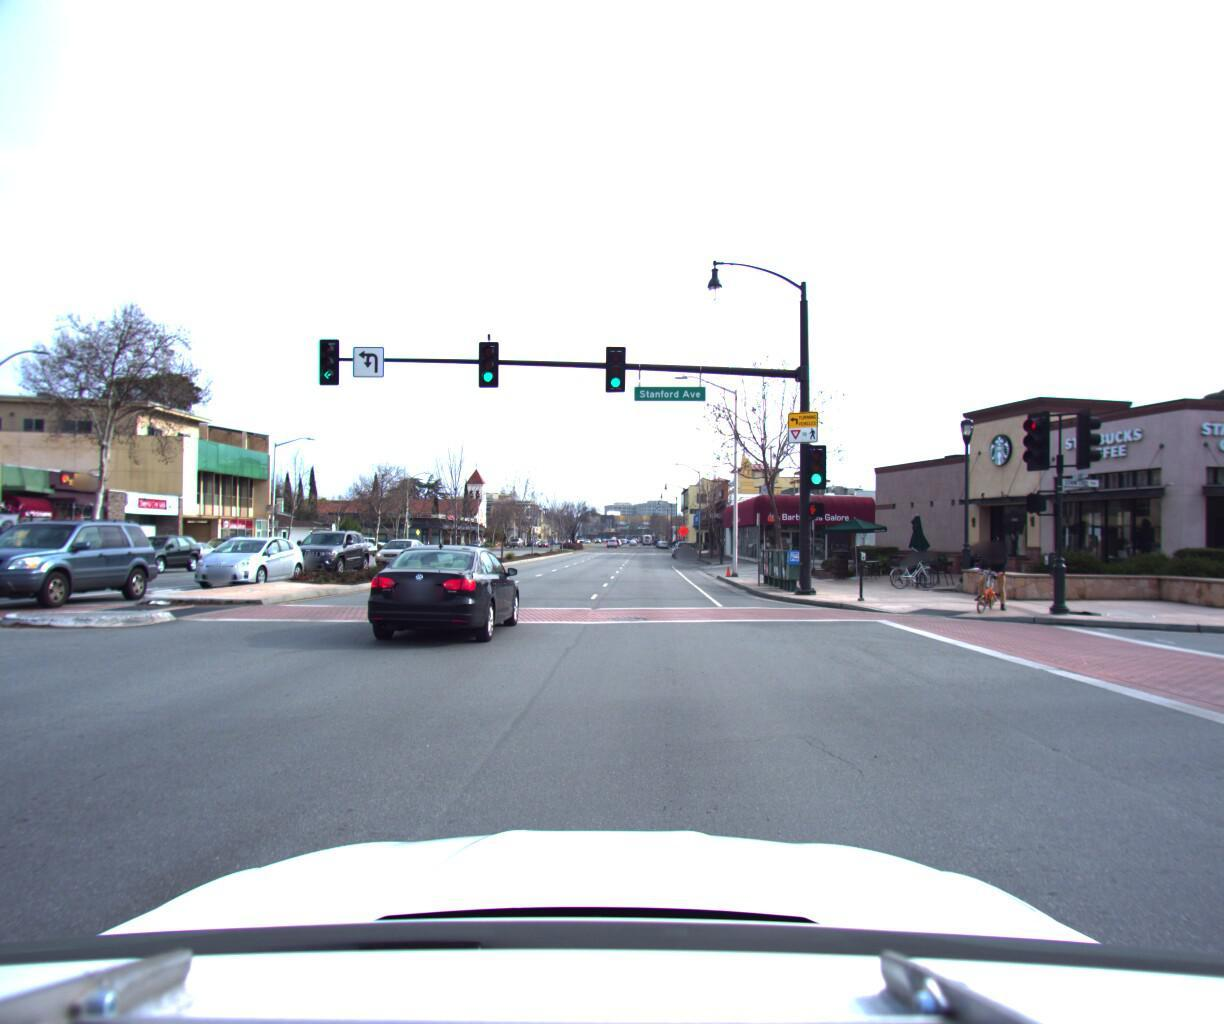bicycle: (961, 534, 1018, 605), (875, 544, 942, 580)
car: (359, 535, 527, 647), (0, 508, 174, 611), (0, 489, 96, 576), (184, 528, 312, 583), (280, 523, 376, 573), (112, 530, 207, 568), (155, 533, 224, 562), (373, 530, 429, 562), (669, 530, 697, 551)
